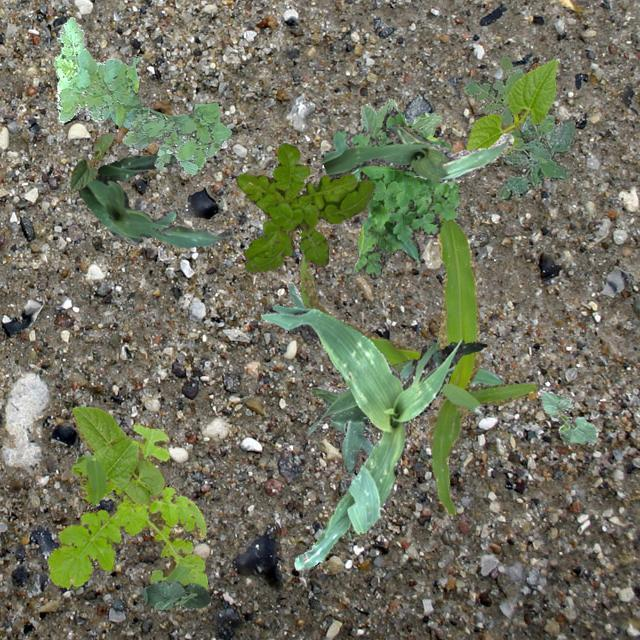crop: (298, 218, 536, 514), (260, 304, 462, 570), (286, 281, 502, 414), (306, 340, 486, 472), (78, 154, 232, 246), (322, 122, 512, 182), (72, 406, 164, 506), (466, 59, 556, 152), (348, 98, 441, 180), (536, 386, 596, 444), (68, 130, 114, 190), (140, 580, 210, 610)
weed: (52, 15, 230, 174), (46, 422, 206, 588), (332, 105, 460, 278), (236, 142, 374, 272), (462, 54, 554, 160), (498, 116, 574, 200)
